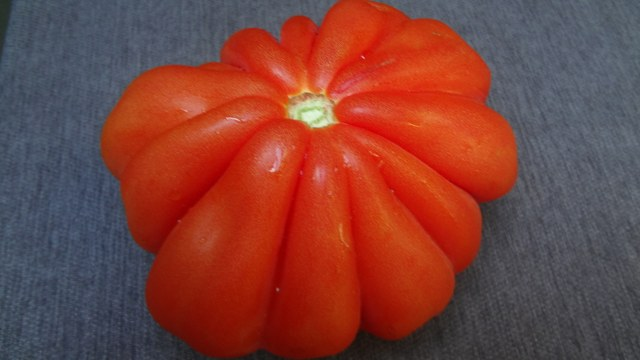tomato: (98, 0, 522, 360)
